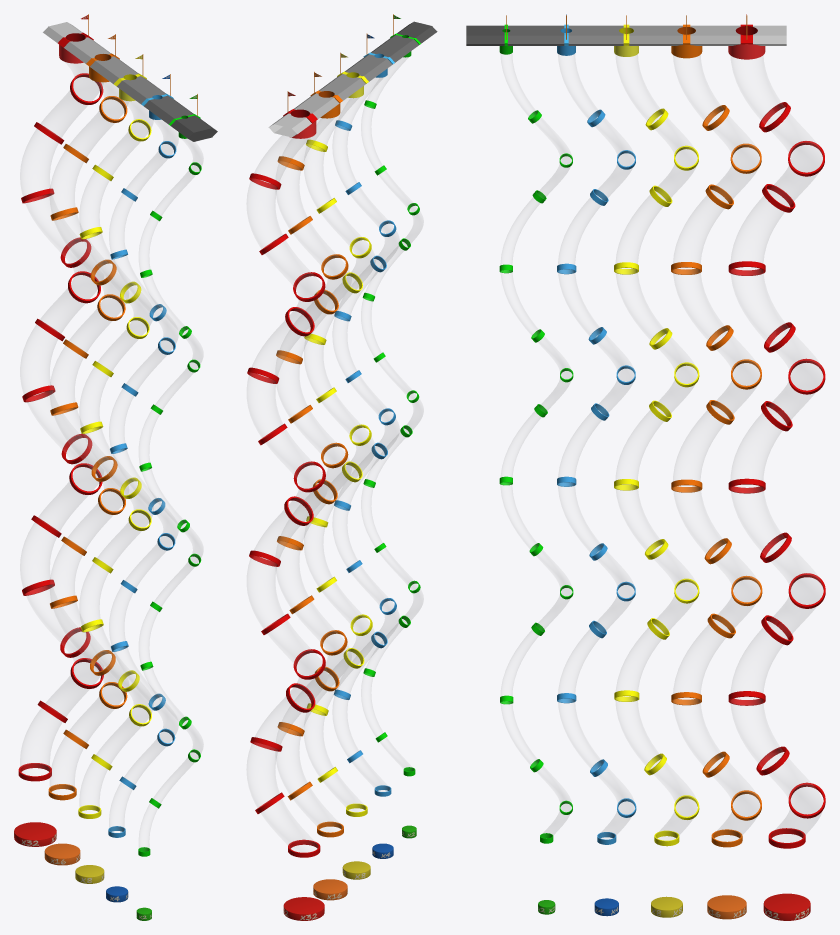
File: end_platform (3).fbx
The picture shows the model from 3 angles, left to right: view 1: azimuth 30°, elevation 25°; view 2: azimuth 150°, elevation 25°; view 3: azimuth 270°, elevation 25°; orthographic projection. The views are drawn at different scales.
Visible parts, largest first — view 1: fifth_spring, forth_spring, third_spring, second_spring, first_spring, end_platform, 32x, 16x, 8x; view 2: fifth_spring, forth_spring, third_spring, second_spring, first_spring, end_platform, 32x, 16x, 8x; view 3: fifth_spring, forth_spring, third_spring, second_spring, first_spring, end_platform, 32x, 16x.
Boxes of the visible parts, bbox=[...] form: fifth_spring: bbox=[20, 44, 103, 767]; forth_spring: bbox=[50, 66, 128, 787]; third_spring: bbox=[80, 88, 153, 807]; second_spring: bbox=[109, 110, 178, 828]; first_spring: bbox=[139, 132, 203, 848]; end_platform: bbox=[43, 22, 217, 141]; 32x: bbox=[14, 822, 56, 846]; 16x: bbox=[44, 843, 80, 865]; 8x: bbox=[75, 865, 104, 883]; fifth_spring: bbox=[247, 121, 327, 846]; forth_spring: bbox=[276, 103, 351, 826]; third_spring: bbox=[304, 86, 375, 807]; second_spring: bbox=[333, 68, 399, 788]; first_spring: bbox=[361, 51, 423, 768]; end_platform: bbox=[268, 21, 437, 137]; 32x: bbox=[283, 897, 324, 920]; 16x: bbox=[313, 879, 347, 900]; 8x: bbox=[342, 861, 370, 879]; fifth_spring: bbox=[728, 44, 822, 835]; forth_spring: bbox=[671, 45, 759, 835]; third_spring: bbox=[614, 45, 697, 835]; second_spring: bbox=[557, 46, 634, 835]; first_spring: bbox=[499, 46, 571, 834]; end_platform: bbox=[466, 24, 786, 45]; 32x: bbox=[763, 893, 810, 920]; 16x: bbox=[707, 895, 746, 919].
Size of the model in its own units: 500 by 5035 by 1793.
